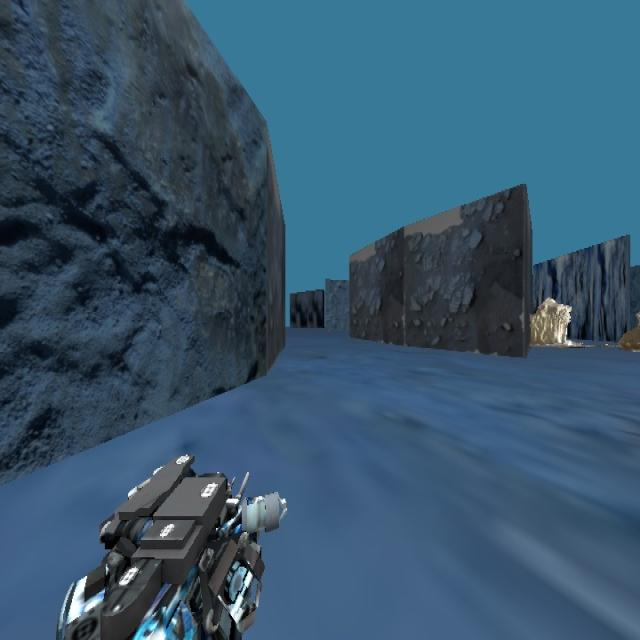Ice: (520, 268, 603, 369)
